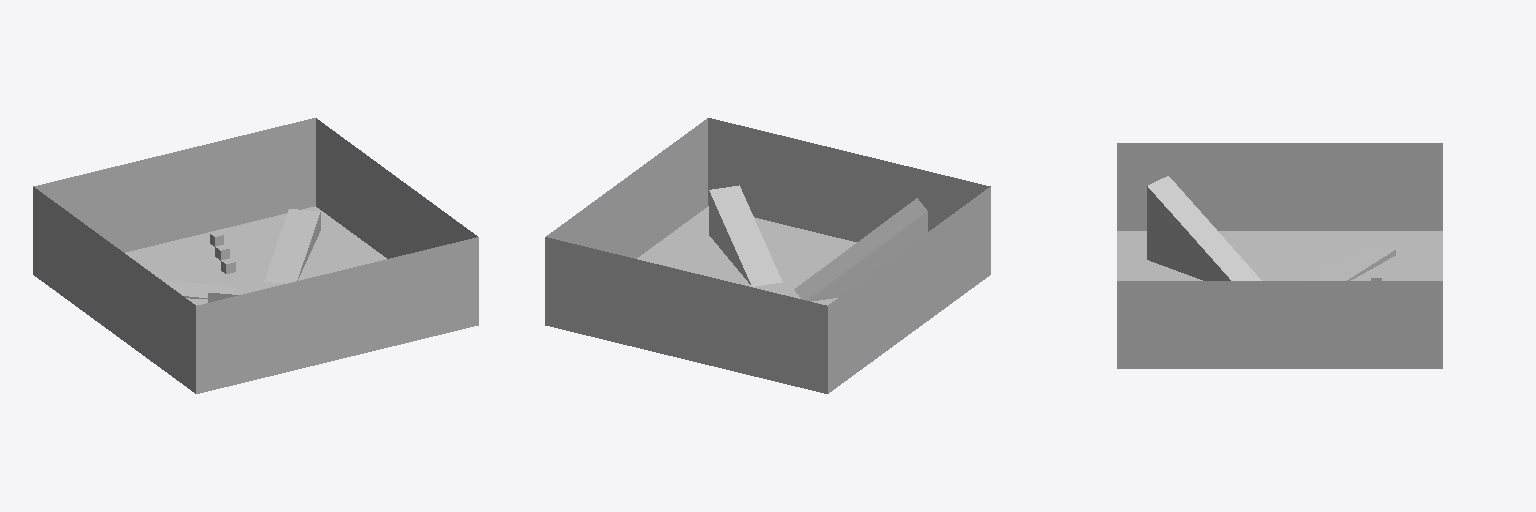
Rendered from fps_example.obj.
The picture shows the model from 3 angles: view 1: azimuth 30°, elevation 25°; view 2: azimuth 150°, elevation 25°; view 3: azimuth 270°, elevation 25°; orthographic projection.
Visible parts, largest first — view 1: Cube.004; view 2: Cube.004; view 3: Cube.004.
Boxes of the visible parts, x1,y1,x2,y2 form: Cube.004: [33, 118, 478, 393]; Cube.004: [545, 118, 990, 393]; Cube.004: [1117, 143, 1442, 368].
Size of the model in its own units: 30.48 by 9.14 by 30.48.